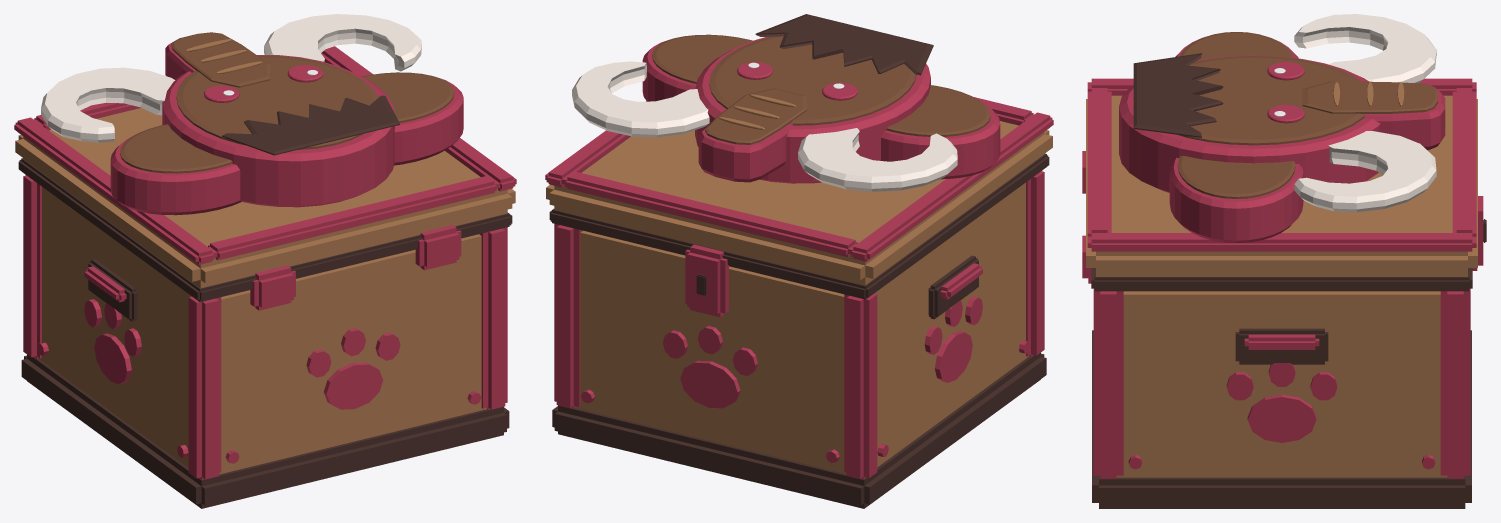
Rendered from crate_mamute.fbx.
The picture shows the model from 3 angles, left to right: view 1: azimuth 30°, elevation 25°; view 2: azimuth 150°, elevation 25°; view 3: azimuth 270°, elevation 25°; orthographic projection. The views are drawn at different scales.
Visible parts, largest first — view 1: crate_mamute_caixa; view 2: crate_mamute_caixa; view 3: crate_mamute_caixa.
Part boxes in pixels (x1,y1,x2,y2): crate_mamute_caixa: [14, 14, 516, 508]; crate_mamute_caixa: [545, 14, 1053, 508]; crate_mamute_caixa: [1082, 14, 1486, 508].
Size of the model in its own units: 2.95 by 2.52 by 2.7.
1 material, 1 textured.
